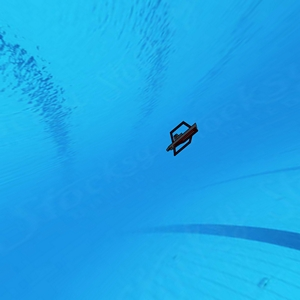submarine: (163, 122, 206, 155)
